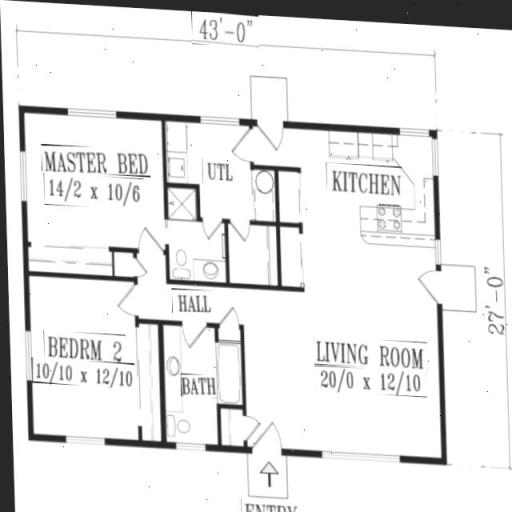bathroom: (163, 334, 245, 442)
bedroom: (24, 116, 163, 270), (32, 276, 159, 433)
hall: (246, 297, 430, 454), (150, 279, 244, 331)
kitchen: (278, 142, 438, 295)
